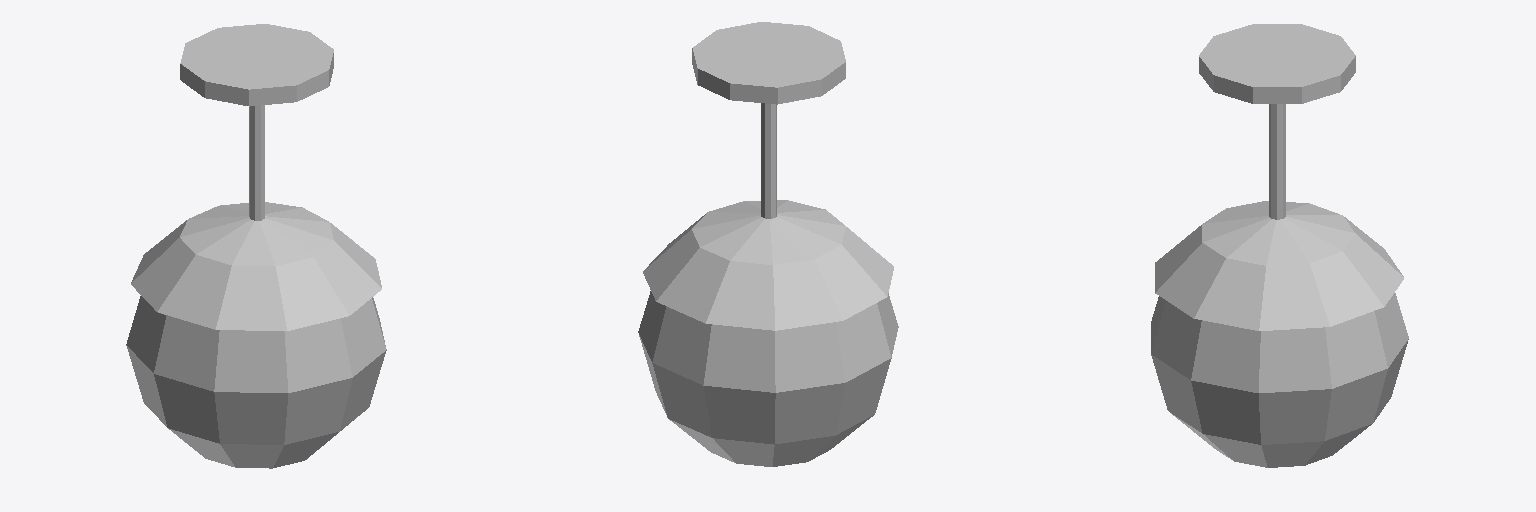
Rendered from Light_Ceiling2.obj.
3 renders of one model, left to right at view 1: azimuth 30°, elevation 25°; view 2: azimuth 150°, elevation 25°; view 3: azimuth 270°, elevation 25°, orthographic.
Visible parts, largest first — view 1: Light_Ceiling2; view 2: Light_Ceiling2; view 3: Light_Ceiling2.
Part boxes in pixels (x1,y1,x2,y2): Light_Ceiling2: (126,24,386,468); Light_Ceiling2: (638,22,898,466); Light_Ceiling2: (1151,24,1408,467).
Bounding box in the file's own units: 0.3608 × 0.6116 × 0.3571.